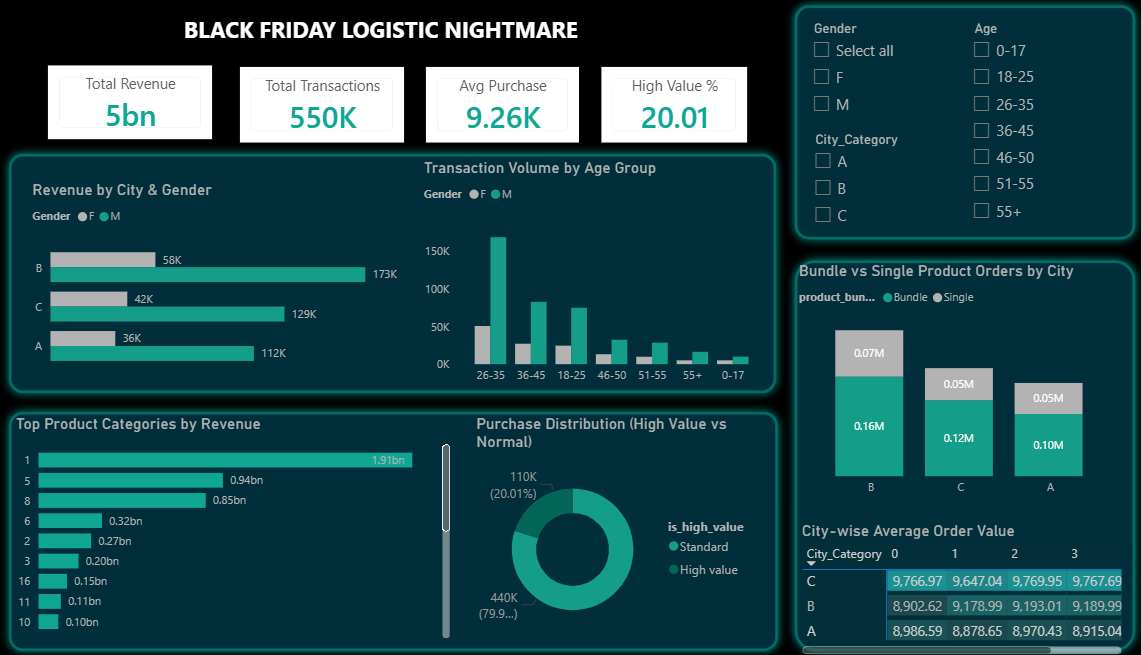

This screenshot's page, from the dashboard's own definition file:
{"tool":"powerbi","page":{"name":"Page 1","canvas":[1280,720],"ordinal":0},"visuals":[{"type":"cardVisual","fields":{"Data":["blackfriday_eng.Total Revenue"]},"box":[84,70,188,90],"z":0},{"type":"cardVisual","fields":{"Data":["blackfriday_eng.Total Transactions"]},"box":[292,72,188,92],"z":1000},{"type":"cardVisual","fields":{"Data":["blackfriday_eng.Avg Purchase"]},"box":[494,72,176,92],"z":2000},{"type":"cardVisual","fields":{"Data":["blackfriday_eng.High Value %"]},"box":[684,72,168,92],"z":3000},{"type":"actionButton","box":[0,0,100,40],"z":4000},{"type":"textbox","box":[232,14,668,56],"z":5000},{"type":"shape","box":[37.8,440.3,854.2,279.7],"z":6000},{"type":"donutChart","title":"Purchase Distribution (High Value vs Normal)","fields":{"Y":["blackfriday_eng.Total Transactions"],"Category":["blackfriday_eng.is_high_value"]},"box":[549.9,453.5,317.5,253.2],"z":7000},{"type":"clusteredBarChart","title":" Top Product Categories by Revenue","fields":{"Y":["blackfriday_eng.Total Revenue"],"Category":["blackfriday_eng.Product_Category_1"]},"box":[51,453.5,480,247.6],"z":8000},{"type":"shape","box":[37.8,160.6,852.3,279.7],"z":9000},{"type":"clusteredBarChart","title":" Revenue by City & Gender","fields":{"Category":["blackfriday_eng.City_Category"],"Y":["blackfriday_eng.Total Transactions"],"Series":["blackfriday_eng.Gender"]},"box":[68,200.3,406.3,219.2],"z":10000},{"type":"clusteredColumnChart","title":"Transaction Volume by Age Group","fields":{"Category":["blackfriday_eng.Age"],"Y":["blackfriday_eng.Total Transactions"],"Series":["blackfriday_eng.Gender"]},"box":[493.2,175.7,379.8,253.2],"z":11000},{"type":"shape","box":[890.1,275.9,389.3,444.1],"z":12000},{"type":"columnChart","title":"Bundle vs Single Product Orders by City","fields":{"Category":["blackfriday_eng.City_Category"],"Y":["blackfriday_eng.Total Transactions"],"Series":["blackfriday_eng.product_bundle_flag - Copy"]},"box":[900,287.5,360,262.5],"z":13000},{"type":"pivotTable","title":"City-wise Average Order Value","fields":{"Rows":["blackfriday_eng.City_Category"],"Columns":["blackfriday_eng.Stay_In_Current_City_Years"],"Values":["blackfriday_eng.Avg Order Value"]},"box":[902,570,356,150],"z":14000},{"type":"shape","box":[890.1,0,389.3,274],"z":15000},{"type":"slicer","fields":{"Values":["blackfriday_eng.Gender"]},"box":[907.1,20.8,177.6,124.7],"z":16000},{"type":"slicer","fields":{"Values":["blackfriday_eng.City_Category"]},"box":[909,141.7,175.7,115.3],"z":17000},{"type":"slicer","fields":{"Values":["blackfriday_eng.Age"]},"box":[1081,20.8,179.5,230.6],"z":18000}]}

Visuals, with their boxes in screenshot pixels (x1, y1, x2, y2), scaled from the page's 1280x720 canvas onto the 1141x655 screenshot:
cardVisual - blackfriday_eng.Total Revenue: [x1=75, y1=64, x2=242, y2=146]
cardVisual - blackfriday_eng.Total Transactions: [x1=260, y1=66, x2=428, y2=149]
cardVisual - blackfriday_eng.Avg Purchase: [x1=440, y1=66, x2=597, y2=149]
cardVisual - blackfriday_eng.High Value %: [x1=610, y1=66, x2=759, y2=149]
actionButton: [x1=0, y1=0, x2=89, y2=36]
textbox: [x1=207, y1=13, x2=802, y2=64]
shape: [x1=34, y1=401, x2=795, y2=654]
"Purchase Distribution (High Value vs Normal)" donutChart: [x1=490, y1=413, x2=773, y2=643]
" Top Product Categories by Revenue" clusteredBarChart: [x1=45, y1=413, x2=473, y2=638]
shape: [x1=34, y1=146, x2=793, y2=401]
" Revenue by City & Gender" clusteredBarChart: [x1=61, y1=182, x2=423, y2=382]
"Transaction Volume by Age Group" clusteredColumnChart: [x1=440, y1=160, x2=778, y2=390]
shape: [x1=793, y1=251, x2=1140, y2=654]
"Bundle vs Single Product Orders by City" columnChart: [x1=802, y1=262, x2=1123, y2=500]
"City-wise Average Order Value" pivotTable: [x1=804, y1=519, x2=1121, y2=654]
shape: [x1=793, y1=0, x2=1140, y2=249]
slicer - blackfriday_eng.Gender: [x1=809, y1=19, x2=967, y2=132]
slicer - blackfriday_eng.City_Category: [x1=810, y1=129, x2=967, y2=234]
slicer - blackfriday_eng.Age: [x1=964, y1=19, x2=1124, y2=229]
